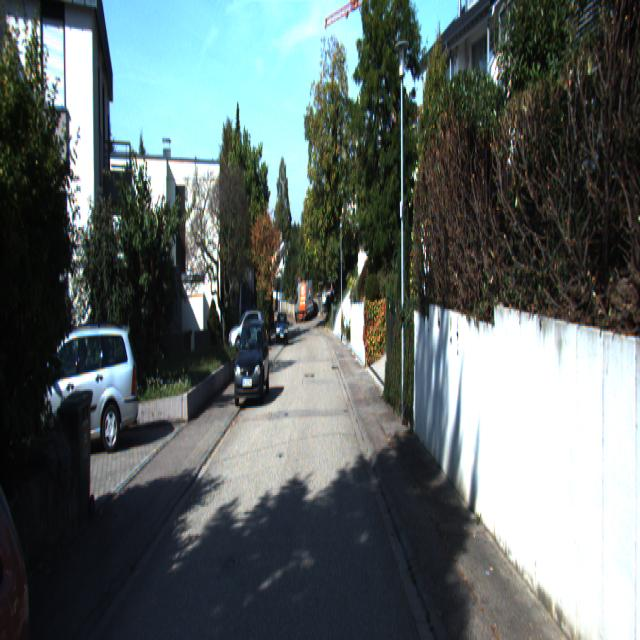Car: (0, 317, 139, 470), (233, 318, 271, 408), (227, 308, 265, 353), (276, 312, 288, 345)
DontCare: (0, 414, 49, 637)
Van: (294, 280, 314, 322)
